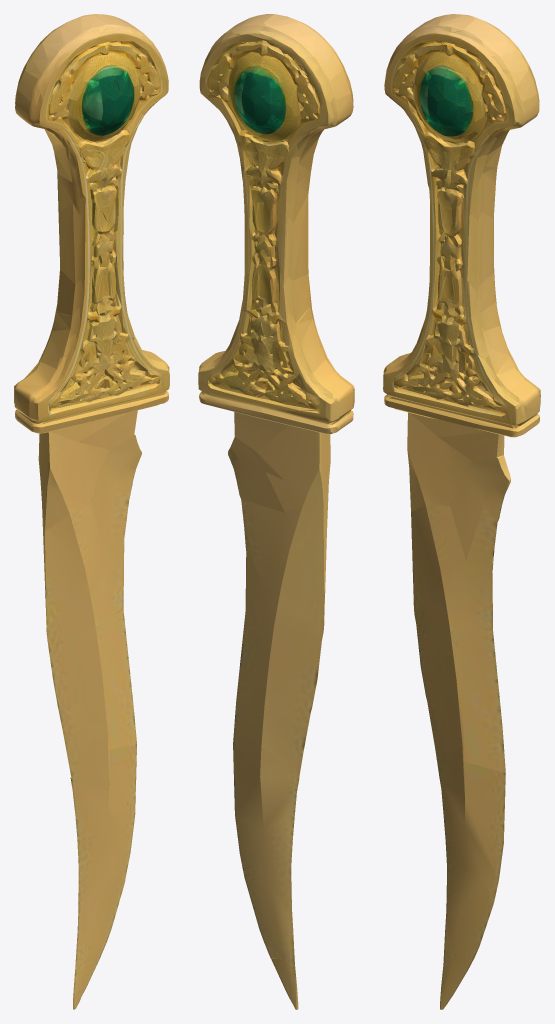
The model's file is etdagger3d.glb.
3 views of the same model, side by side, from view 1: azimuth 30°, elevation 25°; view 2: azimuth 150°, elevation 25°; view 3: azimuth 330°, elevation 25° (orthographic).
Size of the model in its own units: 0.284 by 1.9 by 0.1655.
Materials: 1 (1 with a texture image).
